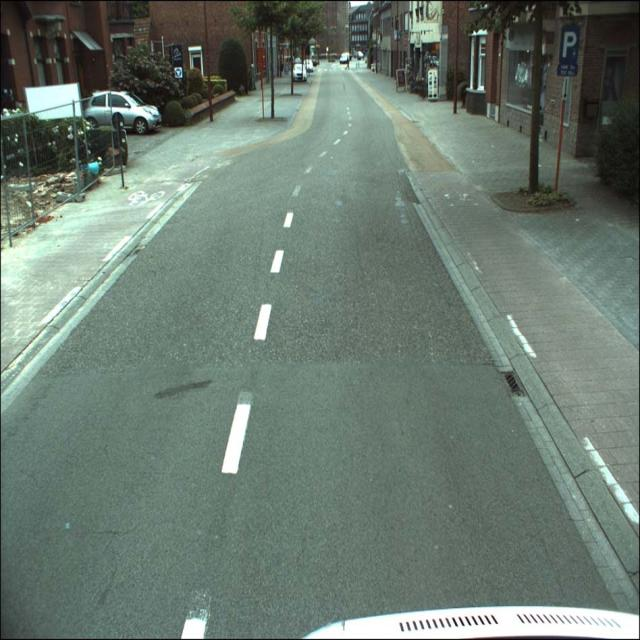park: (560, 26, 579, 68)
